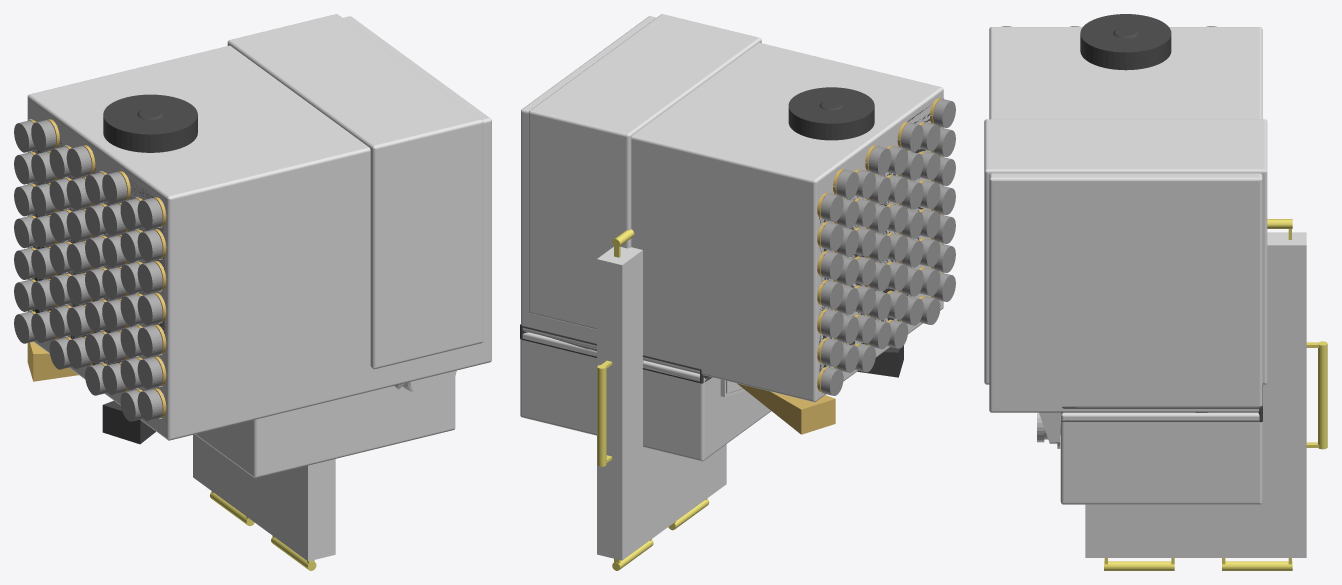
File: XNav-Sextant.fbx
3 renders of one model, left to right at view 1: azimuth 30°, elevation 25°; view 2: azimuth 150°, elevation 25°; view 3: azimuth 270°, elevation 25°, orthographic. The views are drawn at different scales.
Parts seen in each view (by area): view 1: imagetostl_mesh4, imagetostl_mesh3, imagetostl_mesh1; view 2: imagetostl_mesh4, imagetostl_mesh3, imagetostl_mesh1; view 3: imagetostl_mesh4, imagetostl_mesh1.
Boxes of the visible parts, left/top/right/bottom form: imagetostl_mesh4: left=27, top=14, right=491, bottom=478; imagetostl_mesh3: left=14, top=119, right=166, bottom=421; imagetostl_mesh1: left=193, top=434, right=335, bottom=570; imagetostl_mesh4: left=520, top=14, right=943, bottom=461; imagetostl_mesh3: left=817, top=97, right=955, bottom=395; imagetostl_mesh1: left=597, top=229, right=726, bottom=570; imagetostl_mesh4: left=984, top=14, right=1267, bottom=504; imagetostl_mesh1: left=1085, top=219, right=1327, bottom=570.
Bounding box in the file's own units: 11605 × 15875 × 10550.
